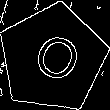O_SW: (22, 26, 83, 90)
